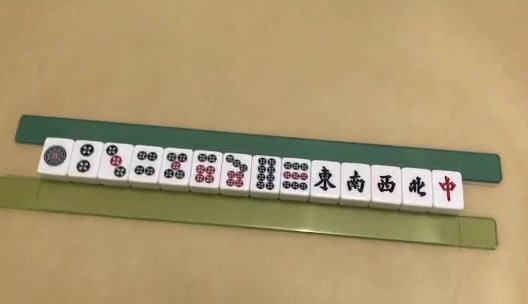1p: (45, 146, 66, 167)
1z: (314, 167, 335, 191)
2p: (77, 144, 94, 172)
2z: (346, 171, 366, 191)
3p: (106, 146, 126, 177)
3z: (377, 175, 396, 192)
4p: (134, 152, 157, 176)
4z: (409, 178, 427, 197)
5p: (163, 152, 186, 179)
6p: (195, 154, 215, 183)
7p: (225, 156, 247, 187)
7z: (439, 176, 458, 203)
8p: (256, 158, 276, 189)
9p: (283, 162, 308, 189)
